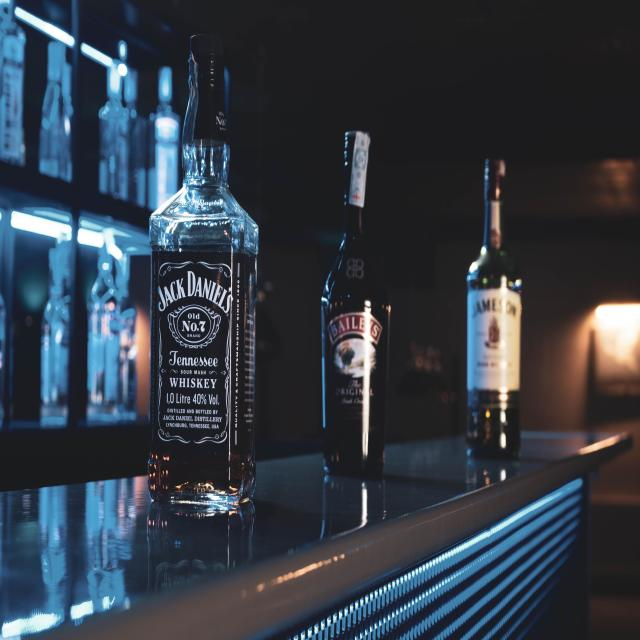Bottle: (149, 35, 258, 508), (322, 132, 390, 476), (467, 160, 521, 458), (147, 502, 255, 594), (87, 230, 137, 423), (40, 241, 71, 426), (149, 67, 180, 210), (0, 0, 26, 166), (99, 65, 128, 199), (39, 41, 66, 177), (125, 69, 147, 207), (60, 63, 73, 182), (0, 293, 6, 425)
